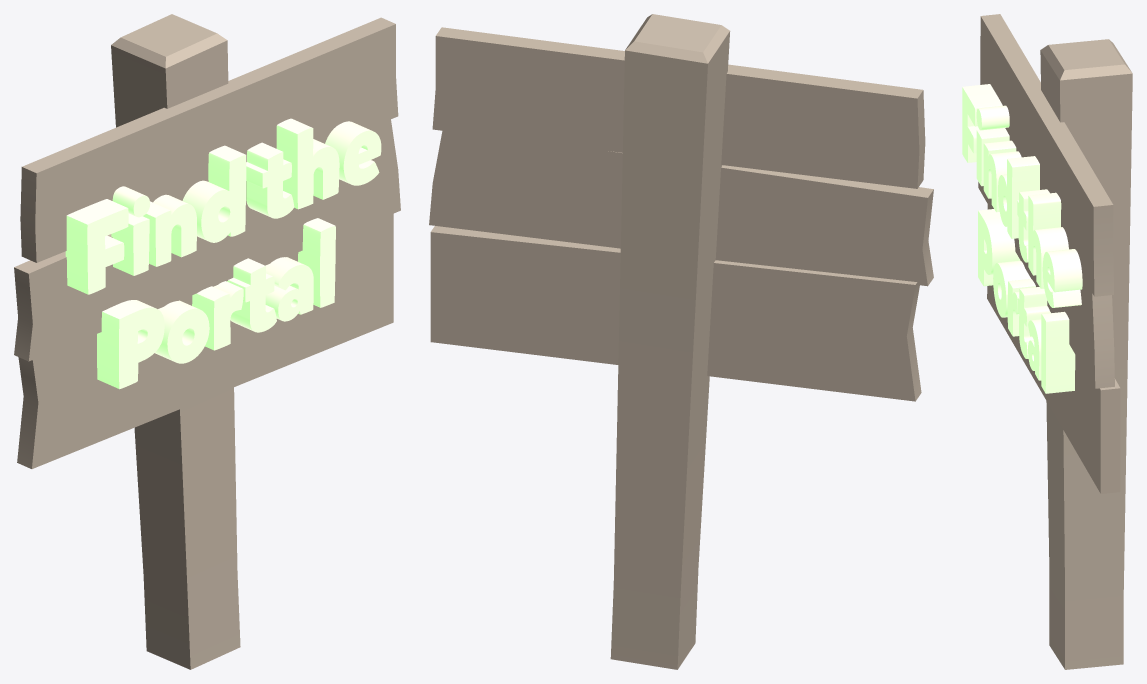
Rendered from sign3.glb.
3 views of the same model, side by side, from view 1: azimuth 30°, elevation 25°; view 2: azimuth 150°, elevation 25°; view 3: azimuth 270°, elevation 25° (orthographic). The views are drawn at different scales.
Parts seen in each view (by area): view 1: typeMesh4; view 2: typeMesh4; view 3: typeMesh4.
Boxes of the visible parts, x1=… form: typeMesh4: x1=14, y1=14, x2=400, y2=669; typeMesh4: x1=429, y1=14, x2=933, y2=669; typeMesh4: x1=962, y1=14, x2=1132, y2=669.
Bounding box in the file's own units: 0.0236 × 0.032 × 0.00837.
